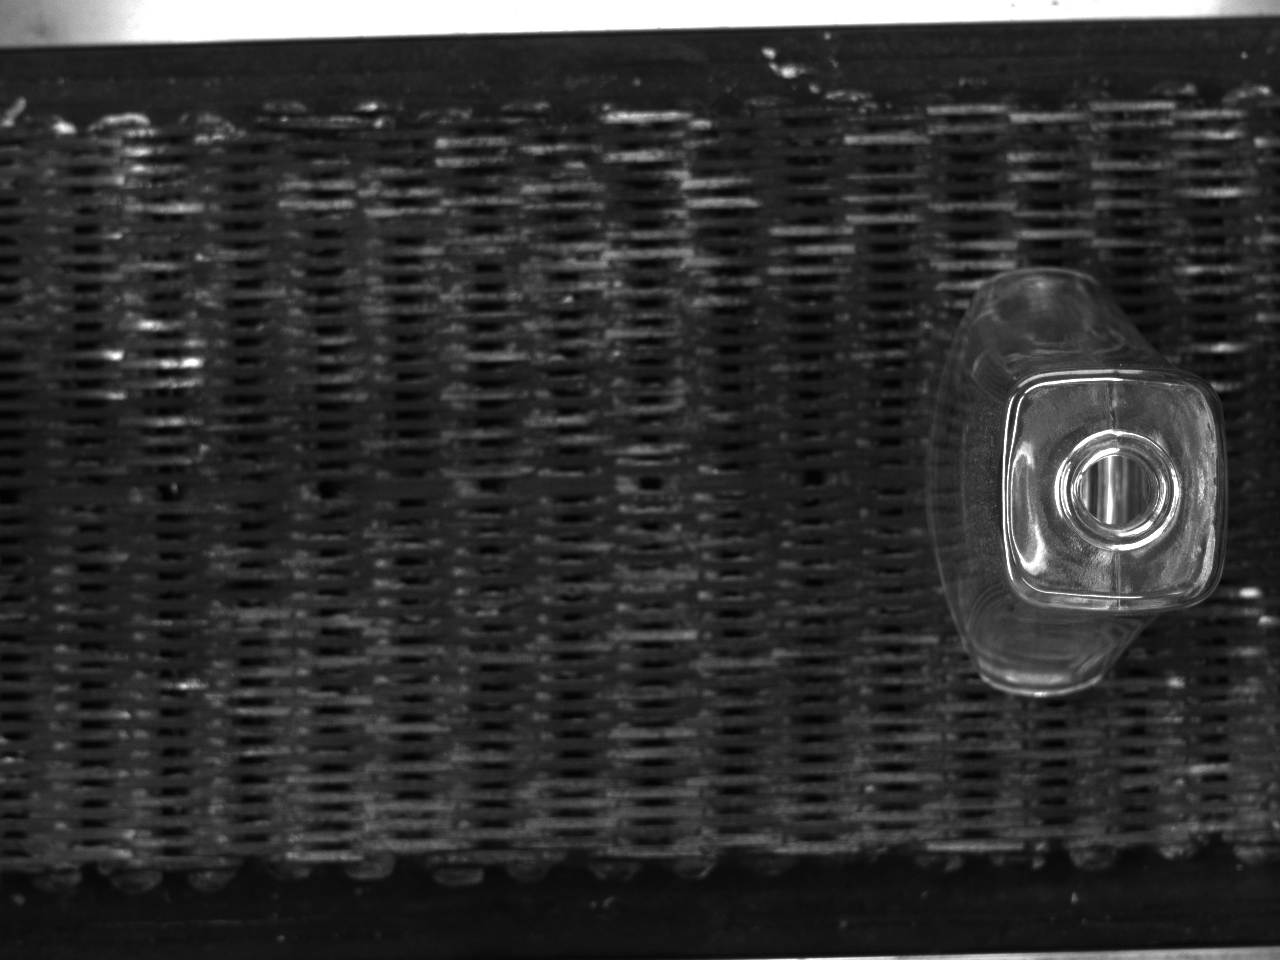bottleneck: (1058, 430, 1183, 549)
